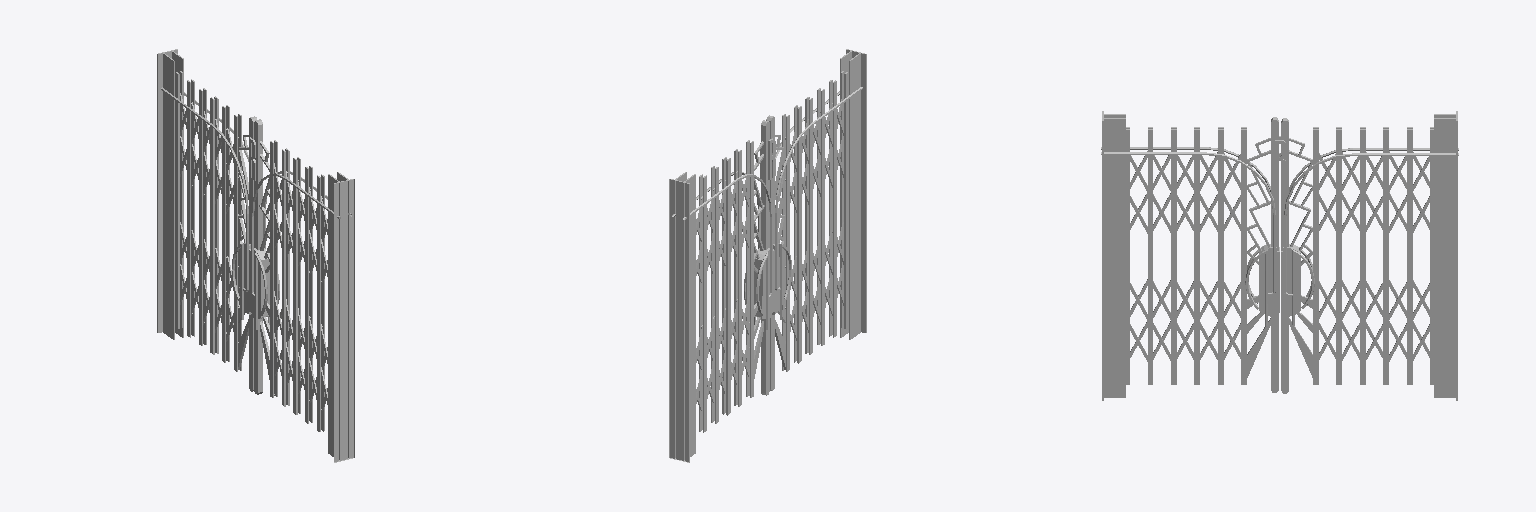
File: SecurityGate.obj
3 views of the same model, side by side, from view 1: azimuth 30°, elevation 25°; view 2: azimuth 150°, elevation 25°; view 3: azimuth 270°, elevation 25° (orthographic).
Parts seen in each view (by area): view 1: Mesh0; view 2: Mesh0; view 3: Mesh0.
Part boxes in pixels (bbox=[...]): Mesh0: bbox=[157, 49, 354, 462]; Mesh0: bbox=[669, 49, 866, 462]; Mesh0: bbox=[1101, 111, 1458, 400].
Bounding box in the file's own units: 16 × 208 × 242.